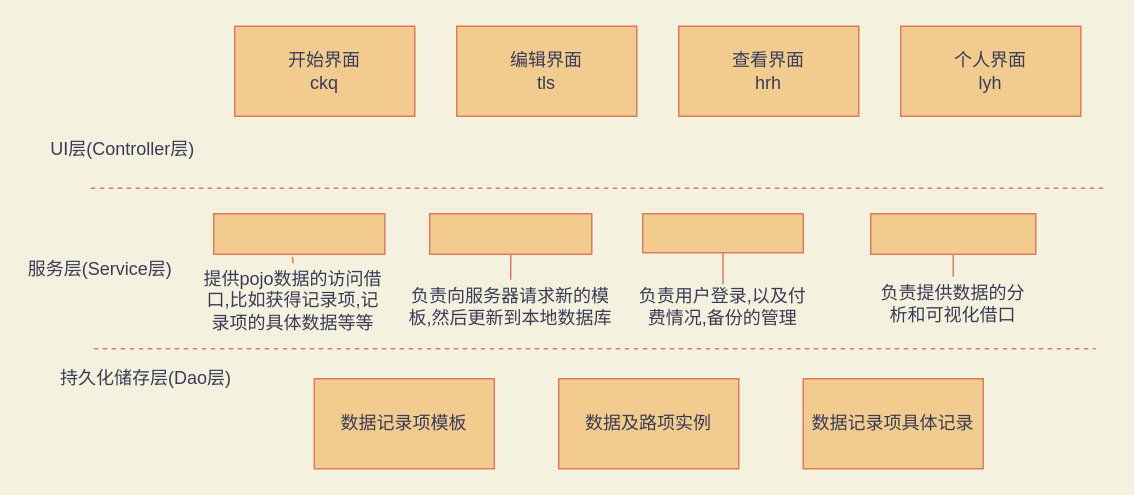
Some shapes in this 1134 by 495 pixel diagram are drawn without their labels. The shapes that lost their labels are listed below. From the top down, each one's box as (x1, y1, x2, y2) in pixels, then its label:
(212, 212, 385, 254): DataBase_Manager
(428, 212, 592, 254): Template_Updater
(641, 212, 803, 253): Login_Manager
(869, 212, 1036, 254): Analysis_Utils
